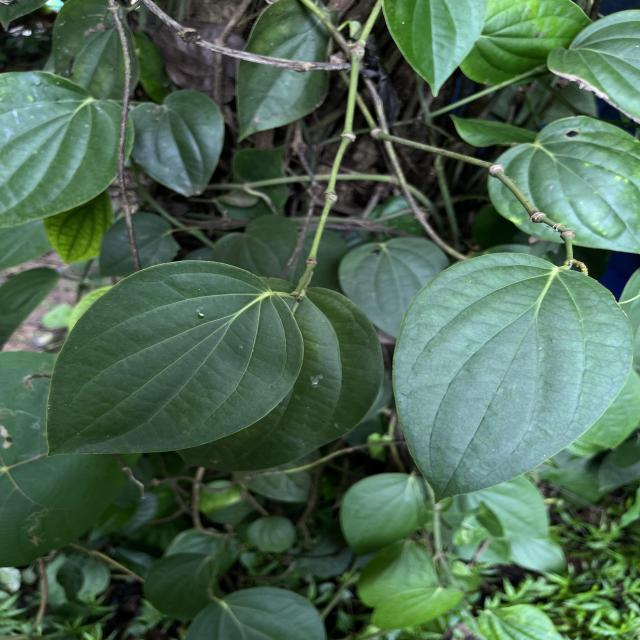Piper nigrum: (389, 249, 636, 506), (43, 258, 307, 459)
